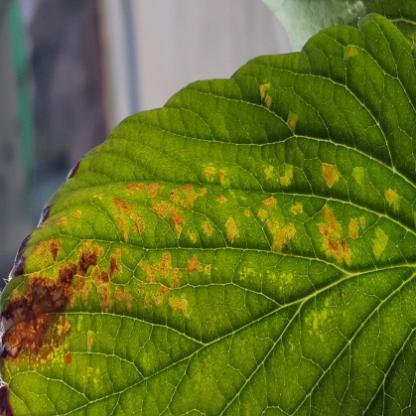Strawberry_Angular_LeafSpot: (0, 41, 411, 416)
